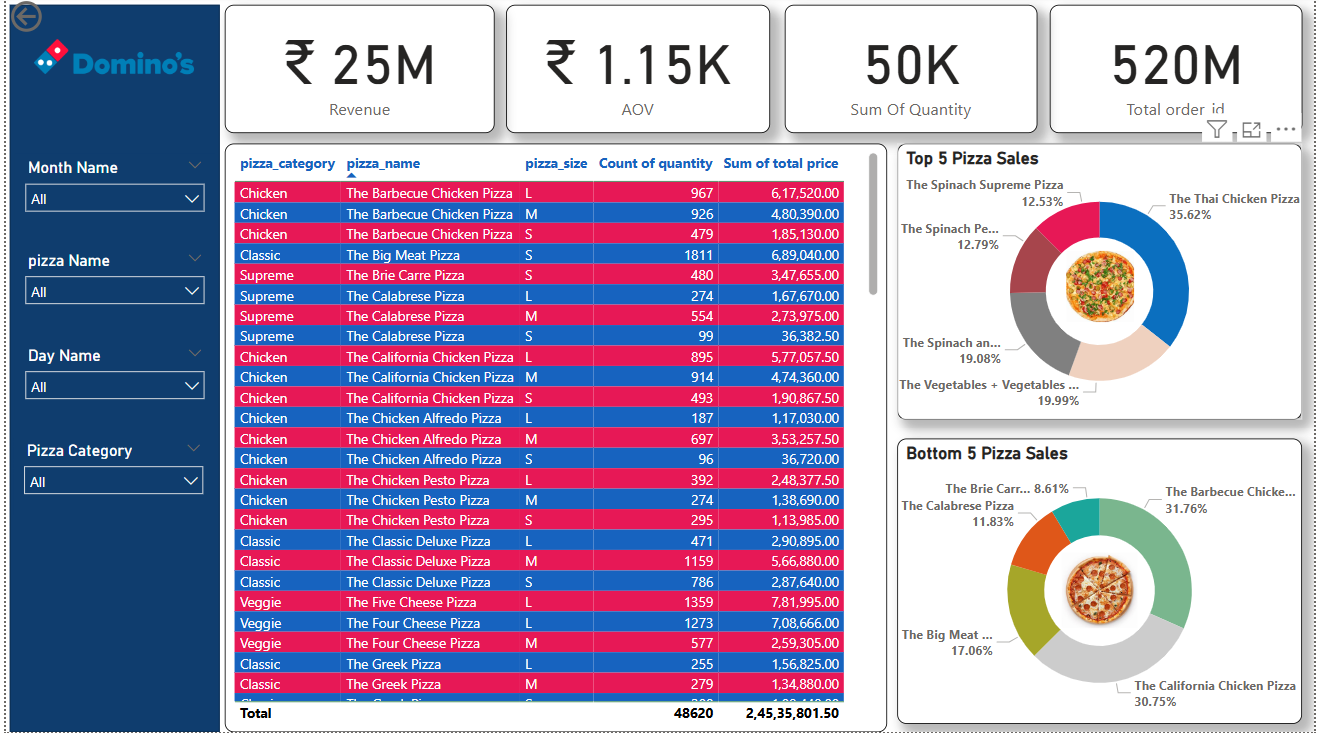

Layout of this report page (visuals, bound fields, positions):
{"tool":"powerbi","page":{"name":"Page 2","canvas":[1280,720],"ordinal":1},"visuals":[{"type":"card","fields":{"Values":["Measures (2).Total order_id"]},"box":[1021.1,8.6,247,126],"z":0},{"type":"card","fields":{"Values":["Measures (2).AOV"]},"box":[489.1,8.6,258,126],"z":1000},{"type":"card","fields":{"Values":["Measures (2).Revenue"]},"box":[214,8.6,264.1,126],"z":2000},{"type":"card","fields":{"Values":["Measures (2).Sum Of Quantity"]},"box":[761.8,8.6,247,126],"z":3000},{"type":"shape","box":[3.7,8.6,205.4,711.7],"z":4000},{"type":"image","box":[7.3,8.6,196.9,101.5],"z":5000},{"type":"slicer","fields":{"Values":["Dataset.order_date.Variation.Date Hierarchy.Month"]},"box":[8.6,154.1,195.7,77],"z":6000},{"type":"slicer","fields":{"Values":["Dataset.pizza_name"]},"box":[8.6,244.6,195.7,77],"z":7000},{"type":"slicer","fields":{"Values":["Dataset.Day name"]},"box":[8.6,337.5,195.7,77],"z":8000},{"type":"slicer","fields":{"Values":["Dataset.pizza_category"]},"box":[7.3,430.4,195.7,77],"z":9000},{"type":"tableEx","title":"Top 5 Pizza Sals","fields":{"Values":["Dataset.pizza_category","Dataset.pizza_name","Dataset.pizza_size","CountNonNull(Dataset.quantity)","Sum(Dataset.total price)"]},"box":[214,144.3,648.1,576],"z":10000},{"type":"donutChart","title":"Top 5 Pizza Sales","fields":{"Category":["Dataset.pizza_name"],"Y":["Measures (2).Revenue"]},"box":[871.9,144.3,396.2,270.2],"z":11000},{"type":"donutChart","title":"Bottom 5 Pizza Sales","fields":{"Category":["Dataset.pizza_name"],"Y":["Measures (2).Revenue"]},"box":[871.9,432.9,396.2,278.8],"z":12000},{"type":"actionButton","box":[0,0,100,40],"z":13000},{"type":"image","box":[1006.4,539.3,127.2,84.4],"z":14000},{"type":"image","box":[1026,244.6,88,79.5],"z":15000}]}

Visuals, with their boxes in screenshot pixels (x1, y1, x2, y2):
card - Measures (2).Total order_id: detection(1061, 0, 1317, 130)
card - Measures (2).AOV: detection(508, 0, 776, 130)
card - Measures (2).Revenue: detection(222, 0, 497, 130)
card - Measures (2).Sum Of Quantity: detection(791, 0, 1048, 130)
shape: detection(4, 0, 217, 732)
image: detection(8, 0, 212, 104)
slicer - Dataset.order_date.Variation.Date Hierarchy.Month: detection(9, 150, 212, 230)
slicer - Dataset.pizza_name: detection(9, 244, 212, 324)
slicer - Dataset.Day name: detection(9, 340, 212, 420)
slicer - Dataset.pizza_category: detection(8, 437, 211, 517)
"Top 5 Pizza Sals" tableEx: detection(222, 140, 896, 732)
"Top 5 Pizza Sales" donutChart: detection(906, 140, 1317, 420)
"Bottom 5 Pizza Sales" donutChart: detection(906, 439, 1317, 729)
actionButton: detection(0, 0, 104, 31)
image: detection(1046, 550, 1178, 638)
image: detection(1066, 244, 1157, 326)
